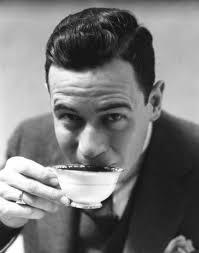Drinking: (0, 61, 165, 222)
